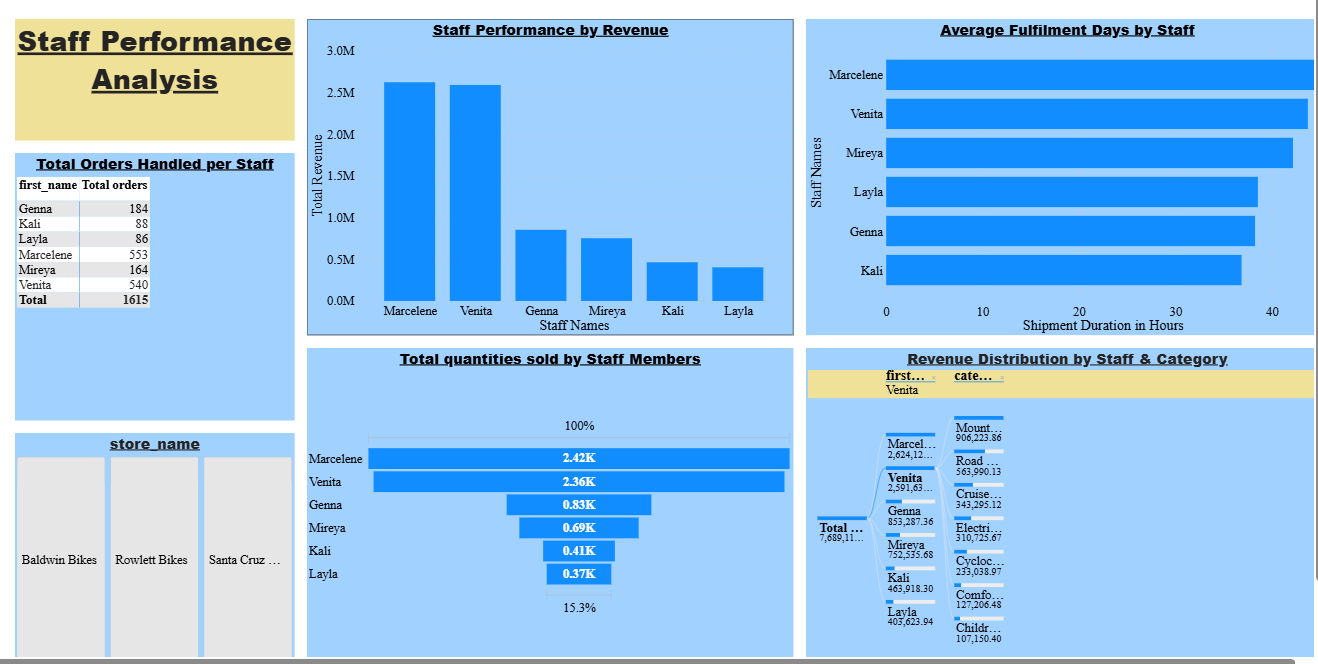

Layout of this report page (visuals, bound fields, positions):
{"tool":"powerbi","page":{"name":"Staff Performance","canvas":[3500,2000],"ordinal":2},"visuals":[{"type":"clusteredColumnChart","title":"Staff Performance by Revenue","fields":{"Category":["staffs.first_name"],"Y":["order_items.Total Revenue"]},"box":[800,96,1280,832],"z":0},{"type":"clusteredBarChart","title":"Average Fulfilment Days by Staff","fields":{"Y":["orders.Shipment duration avarage"],"Category":["staffs.first_name"]},"box":[2112,96,1376,832],"z":1000},{"type":"decompositionTreeVisual","title":"Revenue Distribution by Staff & Category","fields":{"ExplainBy":["staffs.first_name","categories.category_name"],"Analyze":["order_items.Total Revenue"]},"box":[2112,960,1376,832],"z":2000},{"type":"pivotTable","title":"Total Orders Handled per Staff","fields":{"Rows":["staffs.first_name"],"Values":["orders.Total orders"]},"box":[32,448,736,704],"z":3000},{"type":"funnel","title":"Total quantities sold by Staff Members","fields":{"Category":["staffs.first_name"],"Y":["order_items.Total quantities sold"]},"box":[800,960,1280,832],"z":4000},{"type":"advancedSlicerVisual","fields":{"Values":["stores.store_name"]},"box":[32,1184,736,608],"z":5000},{"type":"textbox","box":[32,96,736,320],"z":6000},{"type":"qnaVisual","box":[800,1802,1280,198],"z":7000},{"type":"actionButton","box":[0,0,100,40],"z":8000}]}

Visuals, with their boxes on the page's 3500x2000 design canvas (x1, y1, x2, y2). These are canvas units, not pixel positions in the 1318x664 screenshot, which may show the page scaled, cropped or inside an application window:
"Staff Performance by Revenue" clusteredColumnChart: 800:96:2080:928
"Average Fulfilment Days by Staff" clusteredBarChart: 2112:96:3488:928
"Revenue Distribution by Staff & Category" decompositionTreeVisual: 2112:960:3488:1792
"Total Orders Handled per Staff" pivotTable: 32:448:768:1152
"Total quantities sold by Staff Members" funnel: 800:960:2080:1792
advancedSlicerVisual - stores.store_name: 32:1184:768:1792
textbox: 32:96:768:416
qnaVisual: 800:1802:2080:2000
actionButton: 0:0:100:40
